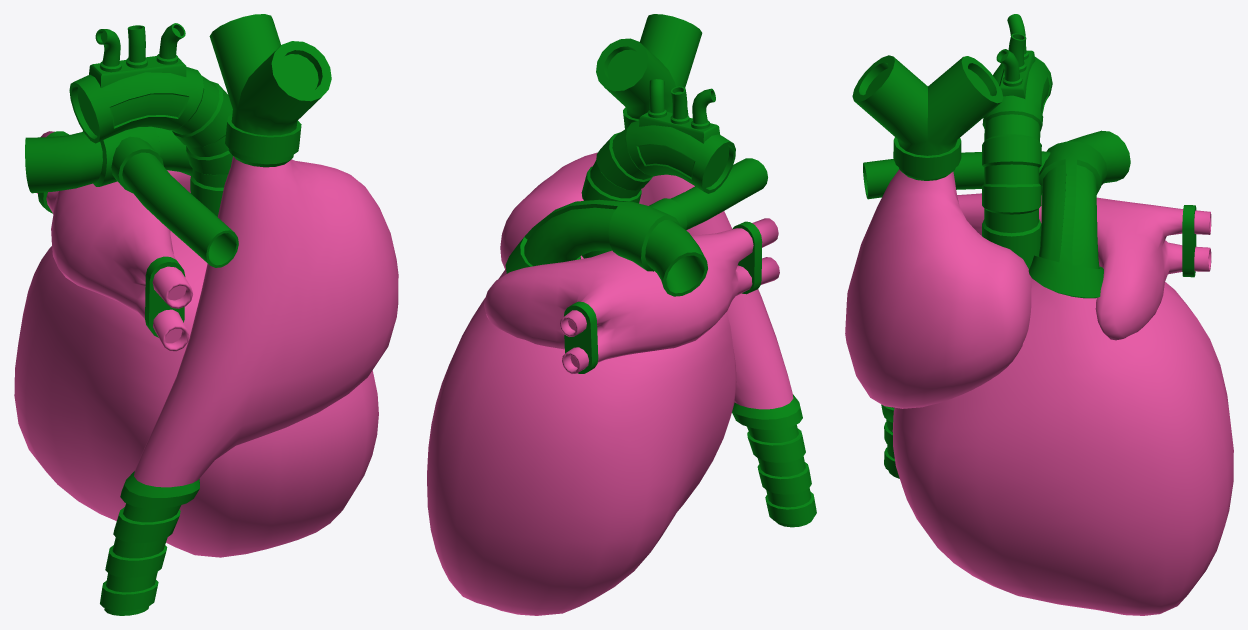
File: sf3_heart_low.fbx
3 views of the same model, side by side, from view 1: azimuth 30°, elevation 25°; view 2: azimuth 150°, elevation 25°; view 3: azimuth 270°, elevation 25° (orthographic). The views are drawn at different scales.
Visible parts, largest first — view 1: topSack_lp, main_lp, backSack_lp, topTube1_lp, main_branch_lp, topTube2_lp, backSack_clips_lp; view 2: main_lp, topSack_lp, backSack_lp, topTube1_lp, main_branch_lp, topTube2_lp, backSack_clips_lp; view 3: main_lp, topSack_lp, backSack_lp, topTube1_lp, main_branch_lp, topTube2_lp, backSack_clips_lp.
Boxes of the visible parts, bbox=[...] form: topSack_lp: bbox=[100, 14, 398, 615]; main_lp: bbox=[14, 126, 378, 557]; backSack_lp: bbox=[37, 131, 192, 351]; topTube1_lp: bbox=[69, 67, 232, 216]; main_branch_lp: bbox=[111, 136, 238, 267]; topTube2_lp: bbox=[89, 23, 186, 87]; backSack_clips_lp: bbox=[38, 131, 185, 337]; main_lp: bbox=[427, 199, 736, 615]; topSack_lp: bbox=[500, 14, 816, 527]; backSack_lp: bbox=[484, 218, 779, 373]; topTube1_lp: bbox=[581, 120, 735, 258]; main_branch_lp: bbox=[649, 158, 767, 230]; topTube2_lp: bbox=[639, 79, 720, 143]; backSack_clips_lp: bbox=[564, 221, 762, 373]; main_lp: bbox=[892, 130, 1233, 615]; topSack_lp: bbox=[845, 55, 1031, 478]; backSack_lp: bbox=[957, 193, 1211, 340]; topTube1_lp: bbox=[982, 57, 1052, 269]; main_branch_lp: bbox=[863, 151, 1050, 199]; topTube2_lp: bbox=[996, 14, 1035, 98]; backSack_clips_lp: bbox=[1182, 205, 1196, 277].
Bounding box in the file's own units: 7.6 × 13.32 × 8.88.
